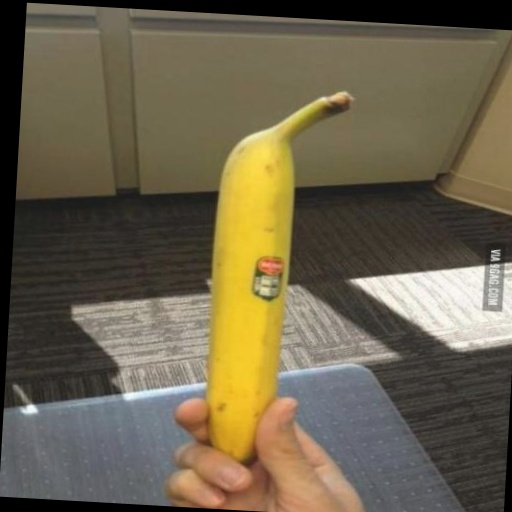fruit: (207, 92, 351, 461)
